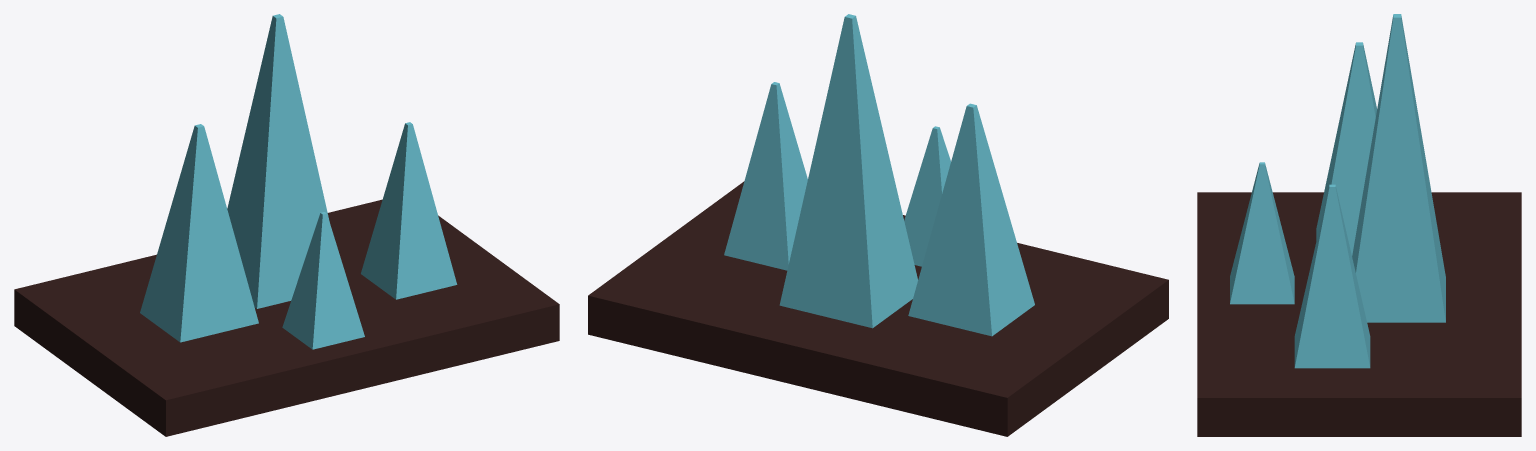
Rendered from crystal_cluster.obj.
3 views of the same model, side by side, from view 1: azimuth 30°, elevation 25°; view 2: azimuth 150°, elevation 25°; view 3: azimuth 270°, elevation 25° (orthographic). The views are drawn at different scales.
Size of the model in its own units: 0.9 by 0.66 by 0.6.
